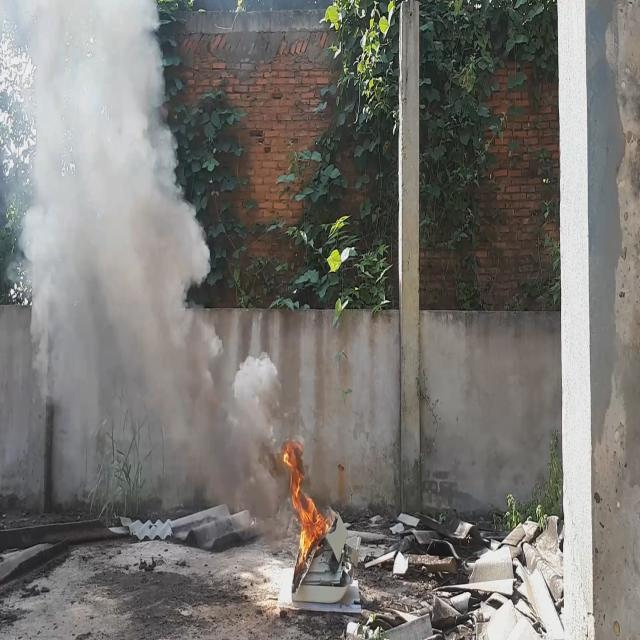Fire: (282, 437, 330, 580)
Smoke: (0, 0, 283, 525)
